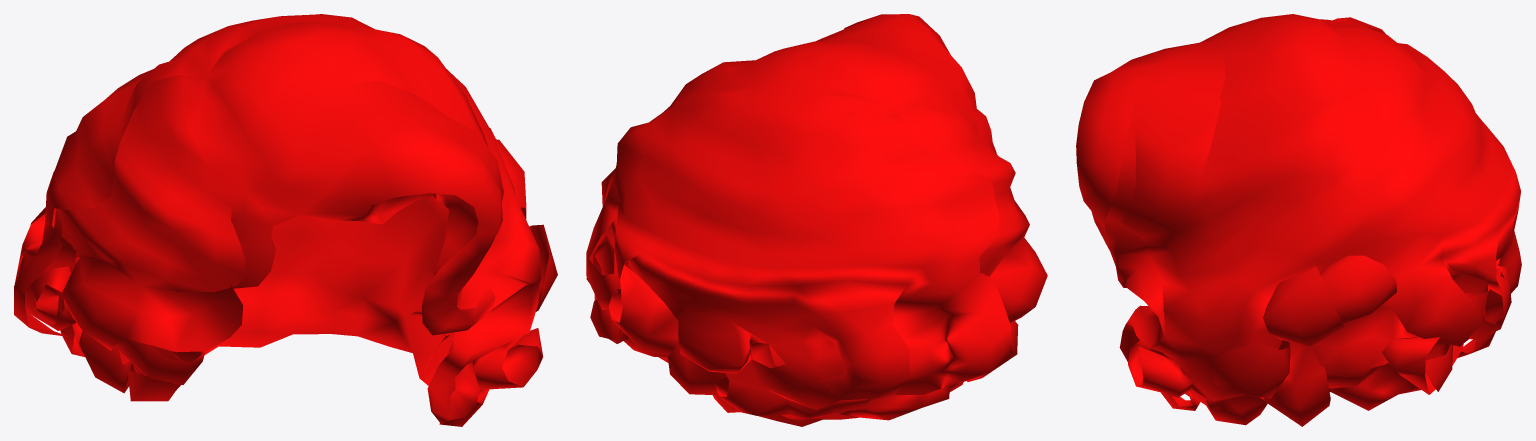
File: elvs_wavy_bob_M.glb
3 renders of one model, left to right at view 1: azimuth 30°, elevation 25°; view 2: azimuth 150°, elevation 25°; view 3: azimuth 270°, elevation 25°, orthographic. The views are drawn at different scales.
Size of the model in its own units: 0.3092 by 0.2343 by 0.2823.
Materials: 1 (1 with a texture image).
